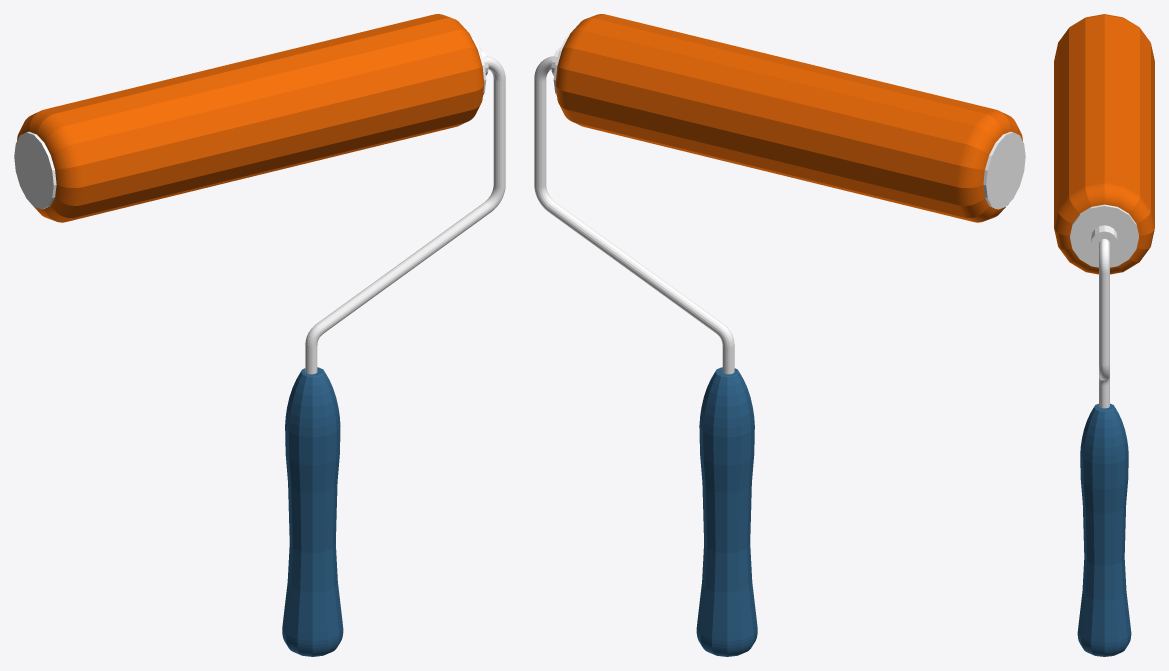
Rendered from Paint Roller.obj.
3 renders of one model, left to right at view 1: azimuth 30°, elevation 25°; view 2: azimuth 150°, elevation 25°; view 3: azimuth 270°, elevation 25°, orthographic. The views are drawn at different scales.
Visible parts, largest first — view 1: Lathe.1, Lathe, wire_sweep, Lathe.2; view 2: Lathe.1, Lathe, wire_sweep, Lathe.2; view 3: Lathe.1, Lathe, Lathe.2, wire_sweep.
Boxes of the visible parts, x1,y1,x2,y2 form: Lathe.1: (17,14,484,222); Lathe: (282,367,343,656); wire_sweep: (305,56,505,374); Lathe.2: (14,29,488,209); Lathe.1: (555,14,1022,222); Lathe: (696,367,757,656); wire_sweep: (534,56,734,374); Lathe.2: (551,29,1025,209); Lathe.1: (1054,14,1154,274); Lathe: (1077,403,1131,656); Lathe.2: (1070,204,1138,267); wire_sweep: (1099,239,1109,408).
Bounding box in the file's own units: 198 × 241 × 41.92.
